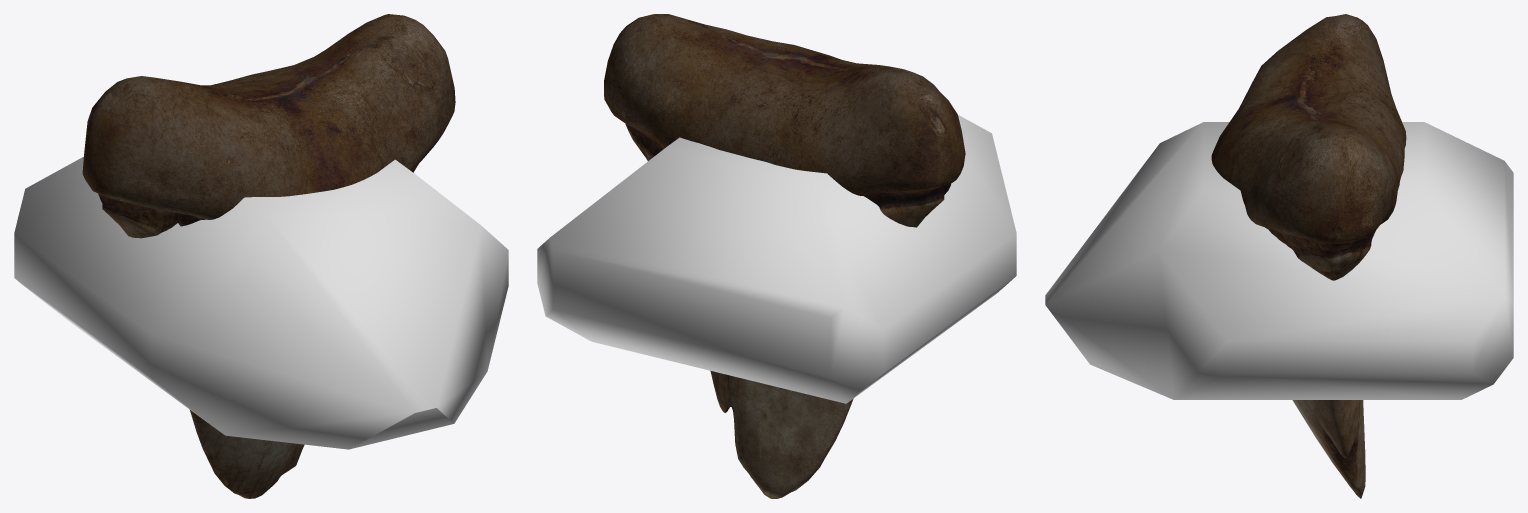
File: SM_MegalodonTooth.fbx
3 views of the same model, side by side, from view 1: azimuth 30°, elevation 25°; view 2: azimuth 150°, elevation 25°; view 3: azimuth 270°, elevation 25° (orthographic). The views are drawn at different scales.
Visible parts, largest first — view 1: SM_MegalodonTooth_ConvexHulls, SM_MegalodonTooth; view 2: SM_MegalodonTooth_ConvexHulls, SM_MegalodonTooth; view 3: SM_MegalodonTooth_ConvexHulls, SM_MegalodonTooth.
Part boxes in pixels (x1,y1,x2,y2): SM_MegalodonTooth_ConvexHulls: [14, 156, 508, 449]; SM_MegalodonTooth: [82, 14, 455, 498]; SM_MegalodonTooth_ConvexHulls: [537, 115, 1016, 403]; SM_MegalodonTooth: [604, 14, 965, 498]; SM_MegalodonTooth_ConvexHulls: [1045, 122, 1513, 399]; SM_MegalodonTooth: [1211, 14, 1406, 498].
Bounding box in the file's own units: 0.322 × 0.3929 × 0.3931.
